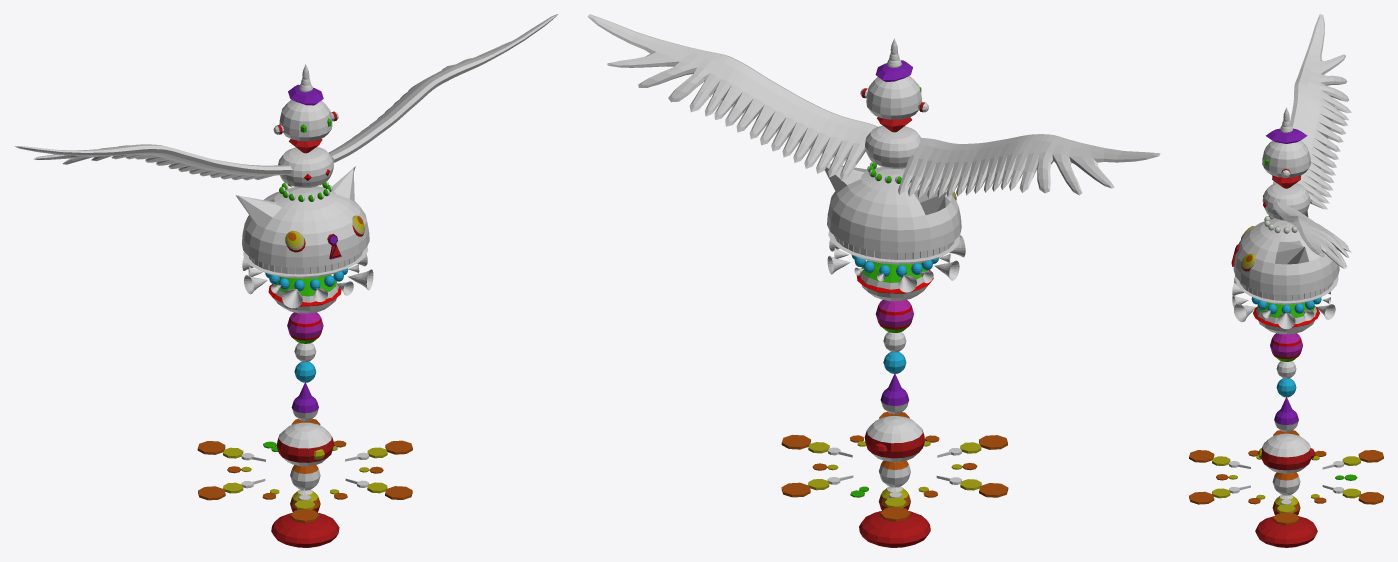
File: ozmain.obj
The picture shows the model from 3 angles, left to right: view 1: azimuth 30°, elevation 25°; view 2: azimuth 150°, elevation 25°; view 3: azimuth 270°, elevation 25°; orthographic projection. The views are drawn at different scales.
Parts seen in each view (by area): view 1: Sphere.003, Sphere, Cube_Cube.001, Cube.001_Cube.002, Sphere.002, Sphere.001_redeye, Sphere.007_Sphere.006; view 2: Cube_Cube.001, Sphere.003, Sphere, Cube.001_Cube.002, Sphere.002, Sphere.001_redeye, Sphere.007_Sphere.006; view 3: Sphere.003, Cube_Cube.001, Sphere, Cube.001_Cube.002, Sphere.002, Sphere.001_redeye, Sphere.007_Sphere.006, Sphere.009_Sphere.008, Sphere.004_Sphere.001.
Part boxes in pixels (<box>): Sphere.003: <box>197,275,412,547</box>; Sphere: <box>235,166,369,278</box>; Cube_Cube.001: <box>14,14,558,180</box>; Cube.001_Cube.002: <box>242,254,373,308</box>; Sphere.002: <box>279,99,332,141</box>; Sphere.001_redeye: <box>278,147,333,187</box>; Sphere.007_Sphere.006: <box>273,84,338,134</box>; Cube_Cube.001: <box>587,14,1160,198</box>; Sphere.003: <box>781,260,1008,547</box>; Sphere: <box>825,163,961,264</box>; Cube.001_Cube.002: <box>827,235,965,292</box>; Sphere.002: <box>866,76,922,119</box>; Sphere.001_redeye: <box>865,125,921,168</box>; Sphere.007_Sphere.006: <box>860,60,928,112</box>; Sphere.003: <box>1189,302,1383,547</box>; Cube_Cube.001: <box>1273,14,1351,268</box>; Sphere: <box>1233,211,1339,304</box>; Cube.001_Cube.002: <box>1232,276,1335,329</box>; Sphere.002: <box>1262,140,1310,177</box>; Sphere.001_redeye: <box>1262,183,1310,220</box>; Sphere.007_Sphere.006: <box>1265,128,1307,177</box>; Sphere.009_Sphere.008: <box>1253,306,1319,327</box>; Sphere.004_Sphere.001: <box>1241,226,1255,271</box>.
Size of the model in its own units: 69.42 by 58.28 by 23.69.
